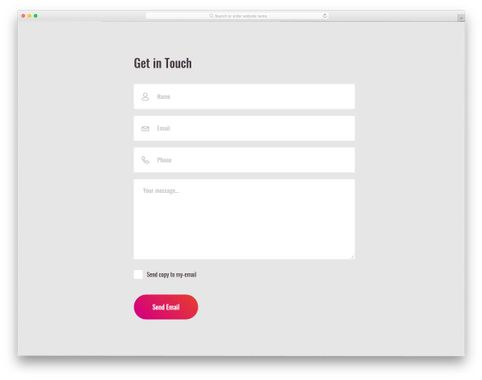button: (131, 293, 201, 322)
checkbox: (132, 268, 143, 281)
field: (132, 178, 356, 262), (131, 83, 356, 112), (132, 146, 356, 175), (131, 115, 357, 143)
